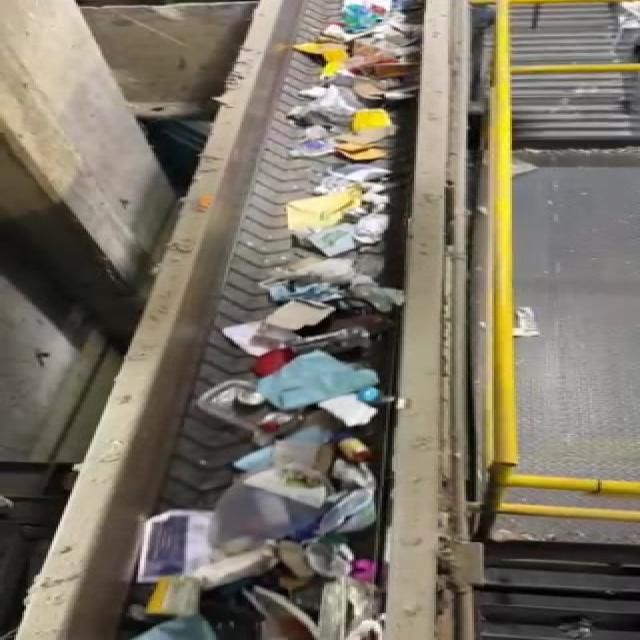metal: (325, 430, 380, 466)
paper: (127, 501, 229, 587), (253, 536, 382, 583), (227, 464, 342, 507)
